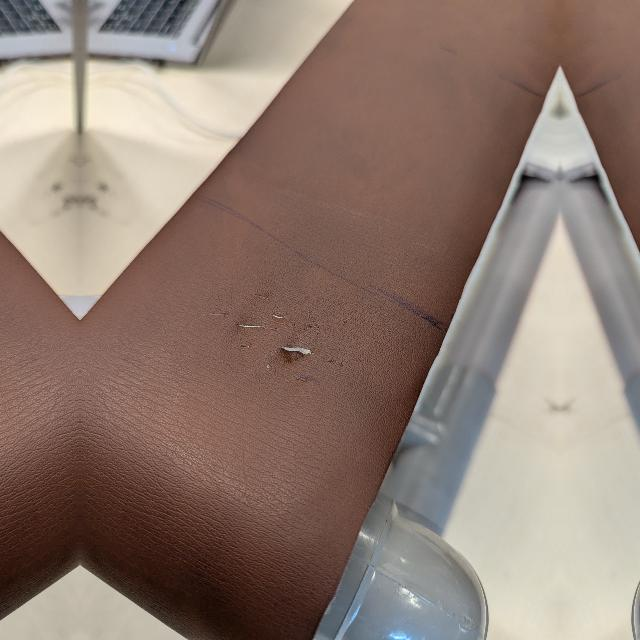belt_crack: (194, 283, 397, 393)
